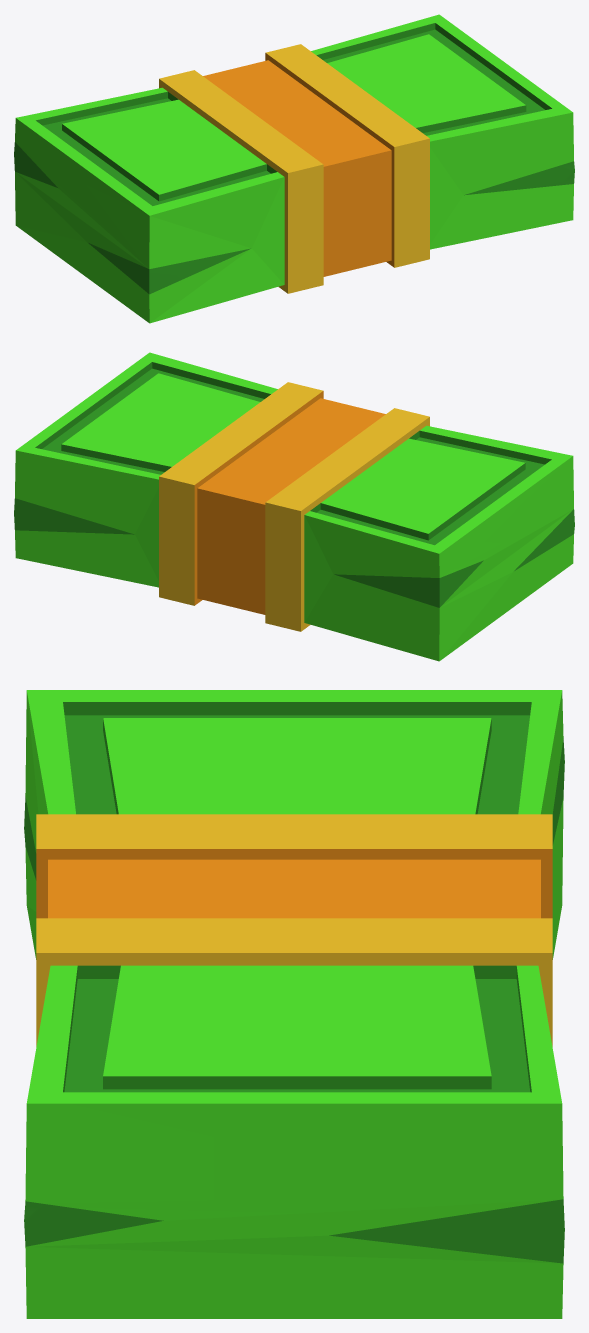
File: money.fbx
3 renders of one model, top to bottom at view 1: azimuth 30°, elevation 25°; view 2: azimuth 150°, elevation 25°; view 3: azimuth 270°, elevation 25°, orthographic. The views are drawn at different scales.
Parts seen in each view (by area): view 1: money; view 2: money; view 3: money.
Boxes of the visible parts, <box> form: money: <box>14,14,574,323</box>; money: <box>14,352,574,661</box>; money: <box>24,690,564,1318</box>.
Bounding box in the file's own units: 80 × 21.68 × 44.
